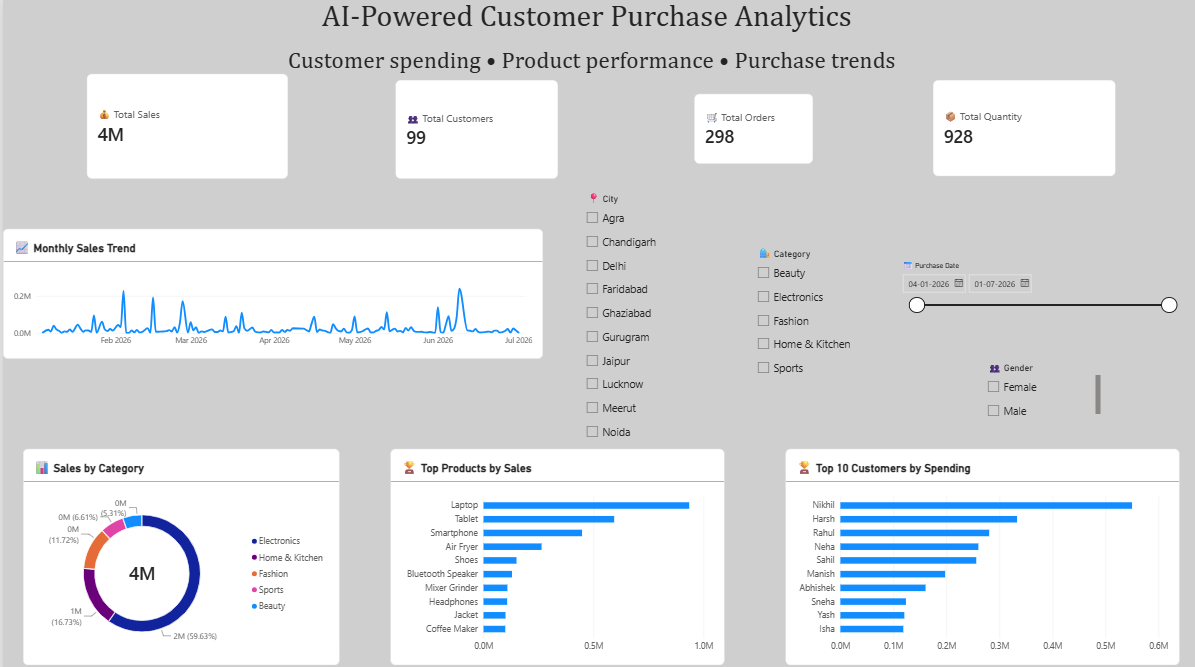

What the dashboard file says about the page in this screenshot:
{"tool":"powerbi","page":{"name":"DASHBOARD","canvas":[1920,1080],"ordinal":0},"visuals":[{"type":"cardVisual","fields":{"Data":["Purchase_Data.Total Orders"]},"box":[1106,150,190,112],"z":1000},{"type":"cardVisual","fields":{"Data":["Purchase_Data.Total Customers"]},"box":[628,128,260,158],"z":2000},{"type":"cardVisual","fields":{"Data":["Purchase_Data.Total Quantity"]},"box":[1488,128,292,154],"z":3000},{"type":"lineChart","title":"📈 Monthly Sales Trend","fields":{"Category":["Purchase_Data.Purchase_Date.Variation.Date Hierarchy.Year","Purchase_Data.Purchase_Date.Variation.Date Hierarchy.Quarter","Purchase_Data.Purchase_Date.Variation.Date Hierarchy.Month","Purchase_Data.Purchase_Date.Variation.Date Hierarchy.Day"],"Y":["Purchase_Data.Total Sales"]},"box":[0,366,864,208],"z":4000},{"type":"clusteredBarChart","title":"🏆 Top Products by Sales","fields":{"Category":["Purchase_Data.Product"],"Y":["Sum(Purchase_Data.Total_Sales)"]},"box":[620,718,534,346],"z":5000},{"type":"donutChart","title":"📊 Sales by Category","fields":{"Category":["Purchase_Data.Category"],"Y":["Purchase_Data.Total Sales"]},"box":[32,718,506,346],"z":6000},{"type":"clusteredBarChart","title":"🏆 Top 10 Customers by Spending","fields":{"Category":["Purchase_Data.Customer_Name"],"Y":["Sum(Purchase_Data.Total_Sales)"]},"box":[1252,718,630,346],"z":7000},{"type":"slicer","fields":{"Values":["Purchase_Data.Purchase_Date"]},"box":[1432,416,450,124],"z":8000},{"type":"slicer","fields":{"Values":["Purchase_Data.Category"]},"box":[1200,394,208,230],"z":9000},{"type":"slicer","fields":{"Values":["Purchase_Data.Gender"]},"box":[1568,576,188,98],"z":10000},{"type":"slicer","fields":{"Values":["Purchase_Data.City"]},"box":[926,306,158,412],"z":11000},{"type":"textbox","box":[510,0,868,76],"z":12000},{"type":"textbox","box":[456,76,1082,94],"z":13000},{"type":"cardVisual","fields":{"Data":["Sum(Purchase_Data.Total_Sales)"]},"box":[134,118,322,168],"z":13001}]}

Visuals, with their boxes in screenshot pixels (x1, y1, x2, y2), scaled from the page's 1920x1080 canvas onto the 1195x667 screenshot:
cardVisual - Purchase_Data.Total Orders: rect(688, 93, 807, 162)
cardVisual - Purchase_Data.Total Customers: rect(391, 79, 553, 177)
cardVisual - Purchase_Data.Total Quantity: rect(926, 79, 1108, 174)
"📈 Monthly Sales Trend" lineChart: rect(0, 226, 538, 354)
"🏆 Top Products by Sales" clusteredBarChart: rect(386, 443, 718, 657)
"📊 Sales by Category" donutChart: rect(20, 443, 335, 657)
"🏆 Top 10 Customers by Spending" clusteredBarChart: rect(779, 443, 1171, 657)
slicer - Purchase_Data.Purchase_Date: rect(891, 257, 1171, 334)
slicer - Purchase_Data.Category: rect(747, 243, 876, 385)
slicer - Purchase_Data.Gender: rect(976, 356, 1093, 416)
slicer - Purchase_Data.City: rect(576, 189, 675, 443)
textbox: rect(317, 0, 858, 47)
textbox: rect(284, 47, 957, 105)
cardVisual - Sum(Purchase_Data.Total_Sales): rect(83, 73, 284, 177)
